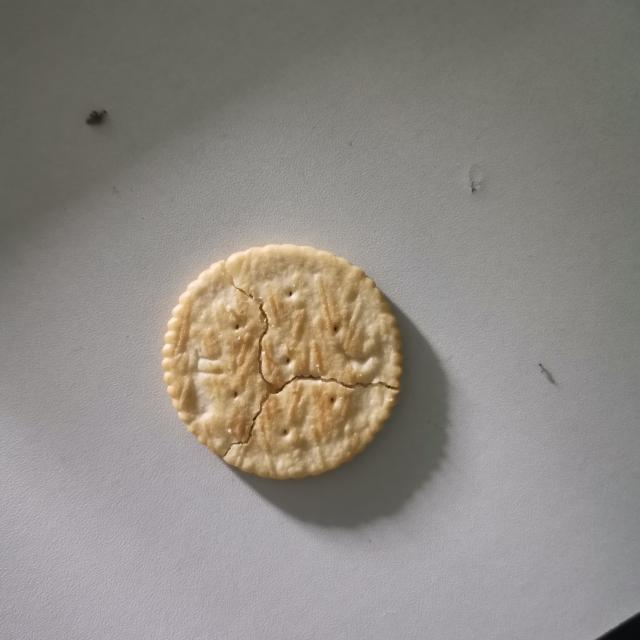Fracture: (208, 262, 406, 473)
